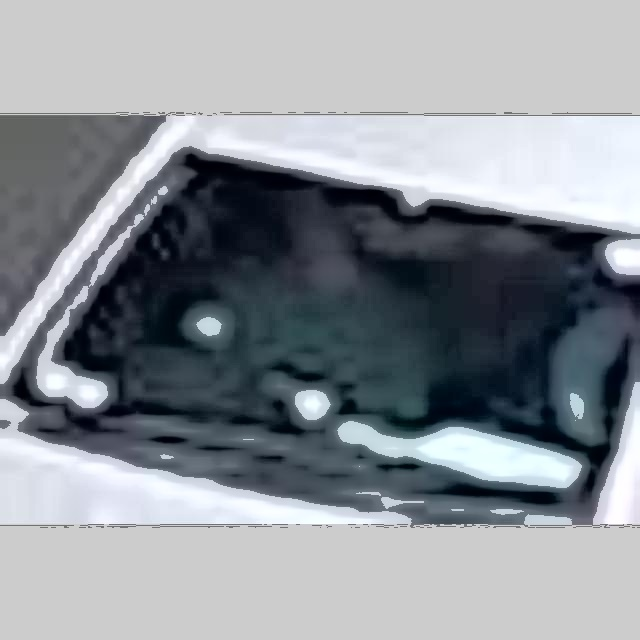tidak-pakai: (204, 196, 436, 436)
